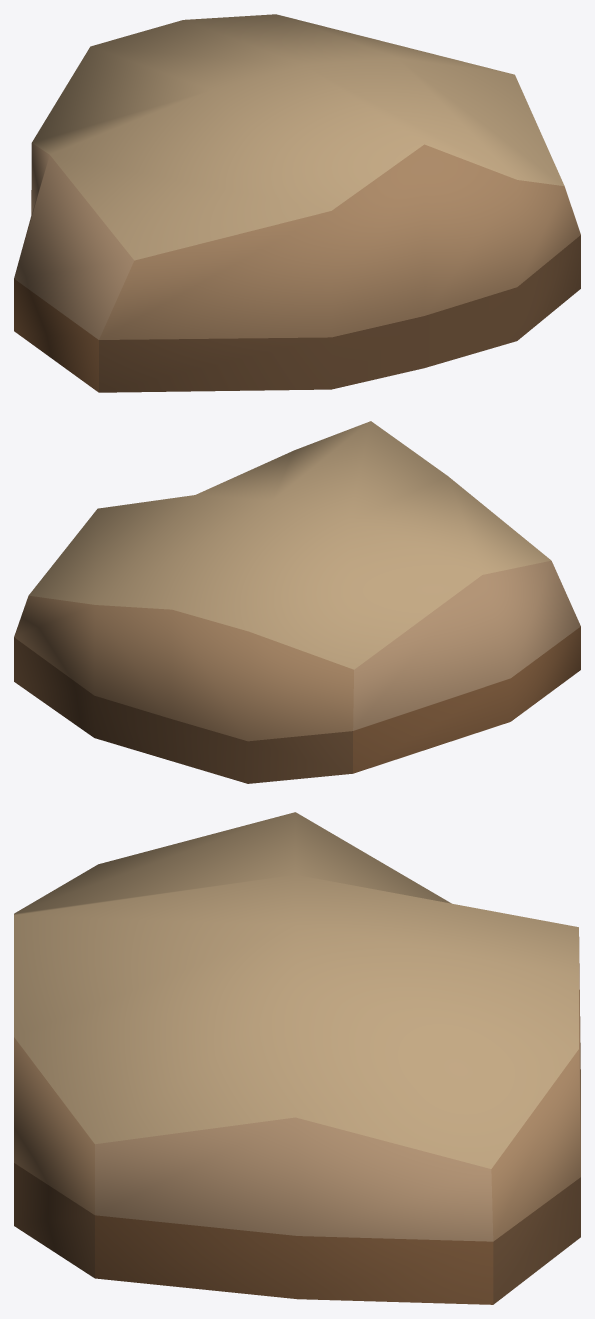
The model's file is consumables-bakedgoods-breadcrumb_v1.glb.
3 views of the same model, one above another, from view 1: azimuth 30°, elevation 25°; view 2: azimuth 150°, elevation 25°; view 3: azimuth 270°, elevation 25° (orthographic). The views are drawn at different scales.
Parts seen in each view (by area): view 1: BreadCrumb_v1; view 2: BreadCrumb_v1; view 3: BreadCrumb_v1.
Boxes of the visible parts, bbox=[...] form: BreadCrumb_v1: bbox=[14, 14, 580, 392]; BreadCrumb_v1: bbox=[14, 421, 580, 783]; BreadCrumb_v1: bbox=[14, 812, 580, 1304].
Bounding box in the file's own units: 0.00624 × 0.00276 × 0.00505.
